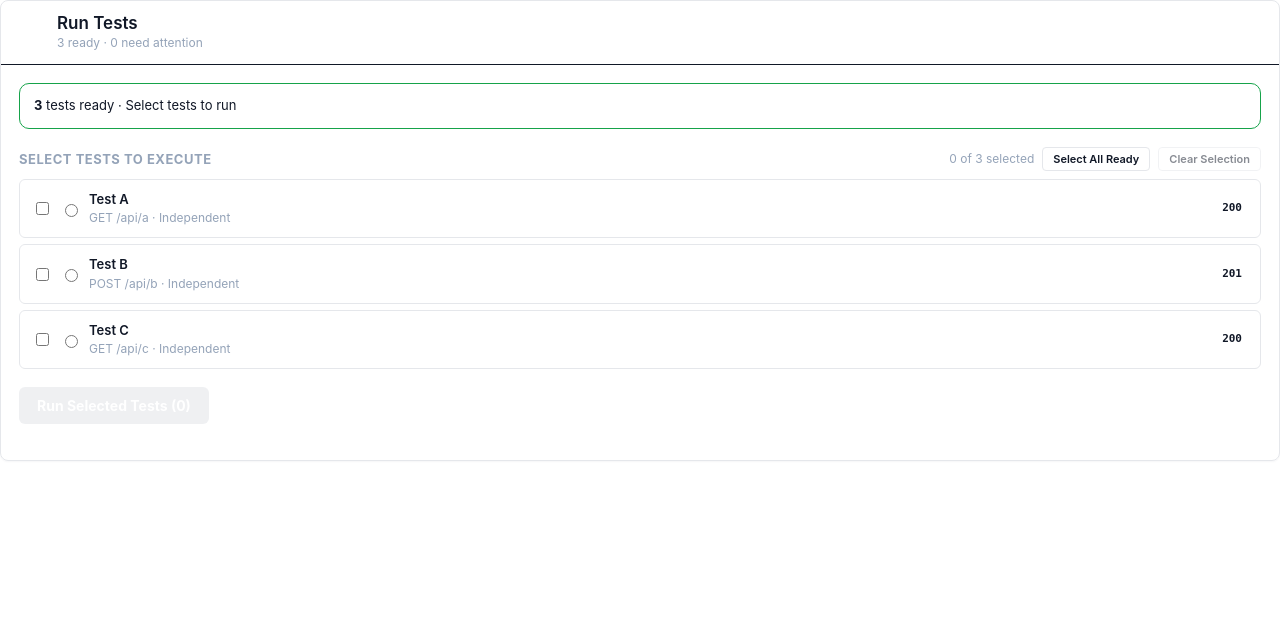
Scenario: ExecutionPanel — STEP 6.4D Batch Execution Validation › Selection › Clear Selection works
Click the radio button next to "Test A" at x=72, y=210, box x1=65 y1=204 x2=78 y2=216
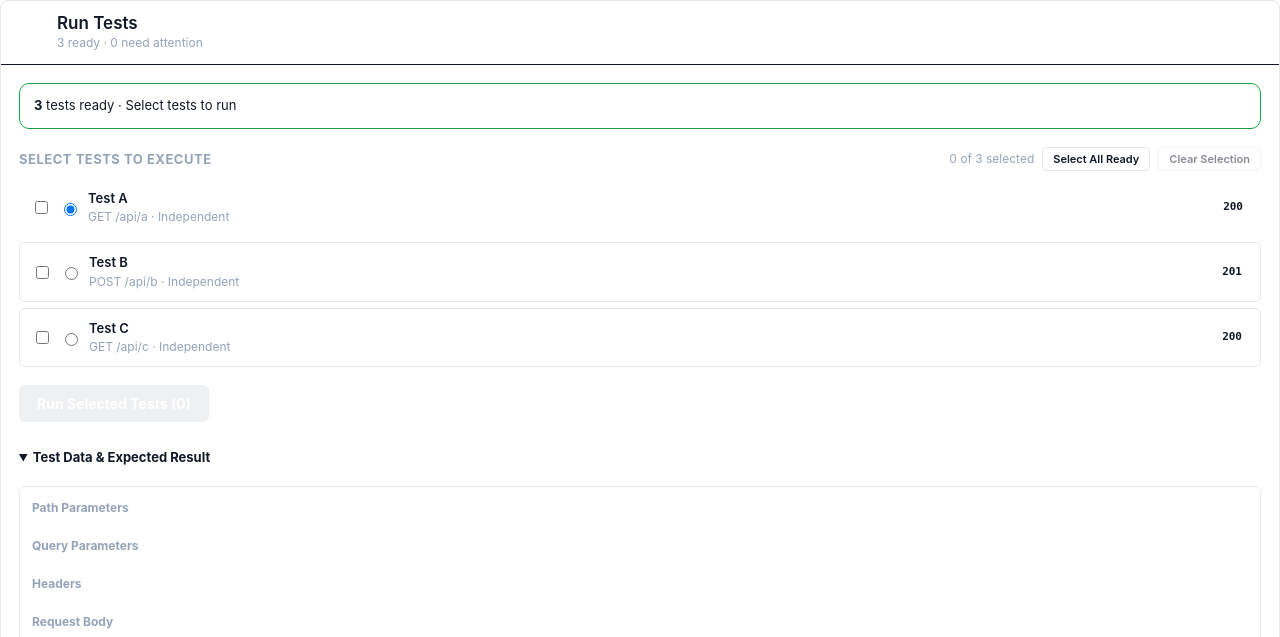
Now the heading "Test Data & Expected Result" is shown, box x1=33 y1=449 x2=210 y2=465
Click the button "Select All Ready" at x=1096, y=159, box x1=1042 y1=147 x2=1150 y2=171
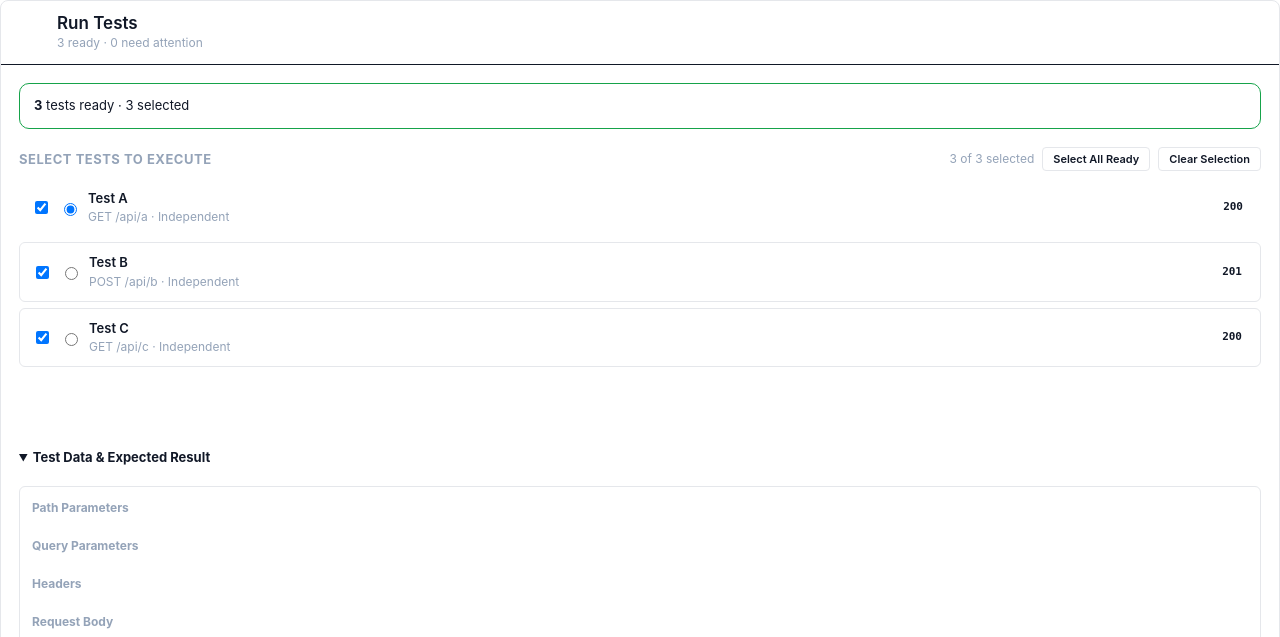
Now the text "3 of 3 selected" is shown, box x1=949 y1=150 x2=1034 y2=168
Click the button "Clear Selection" at x=1210, y=159, box x1=1158 y1=147 x2=1261 y2=171
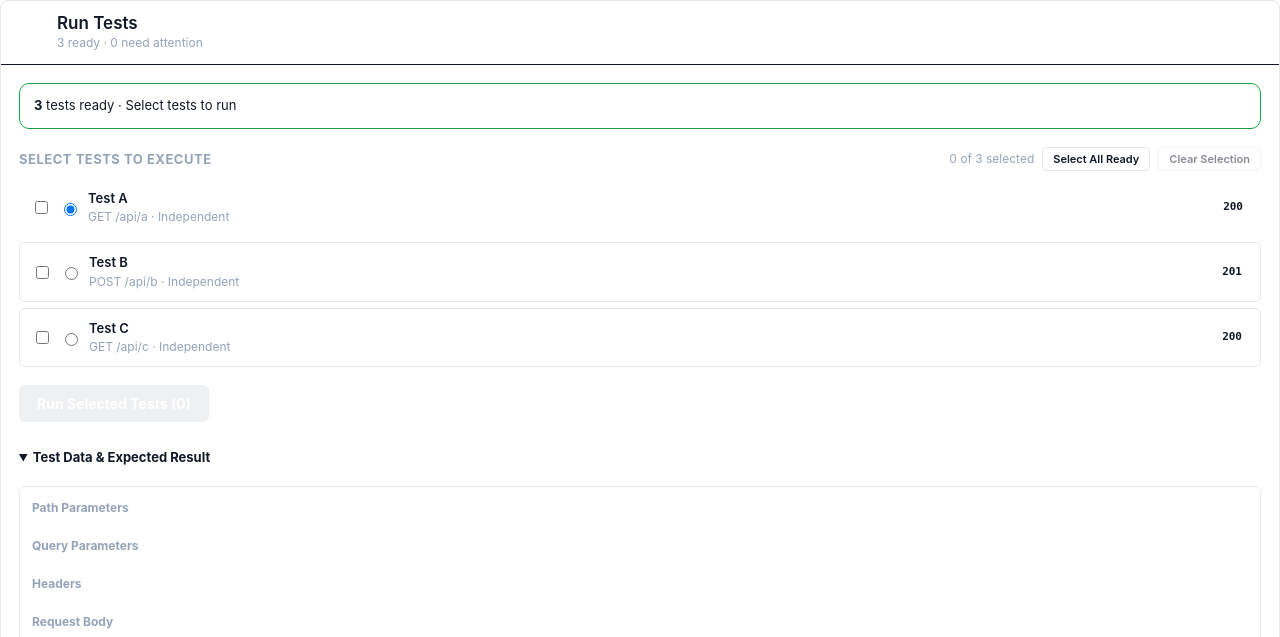
Now the text "0 of 3 selected" is shown, box x1=949 y1=150 x2=1034 y2=168
